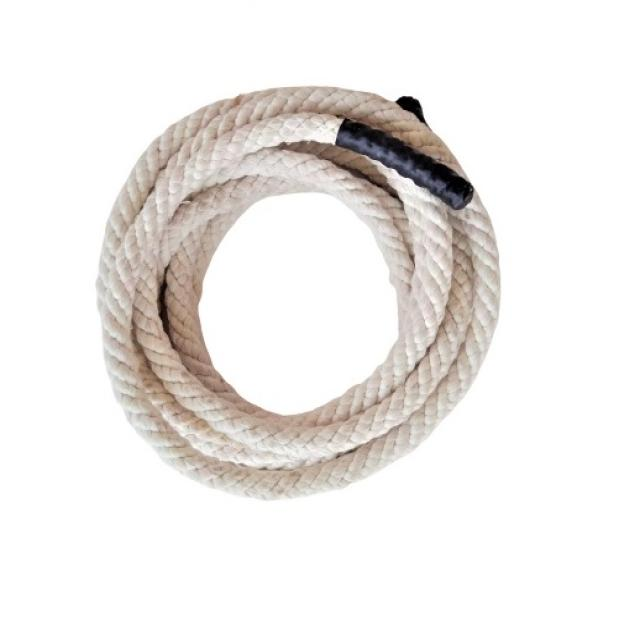Rope: (95, 63, 508, 507)
